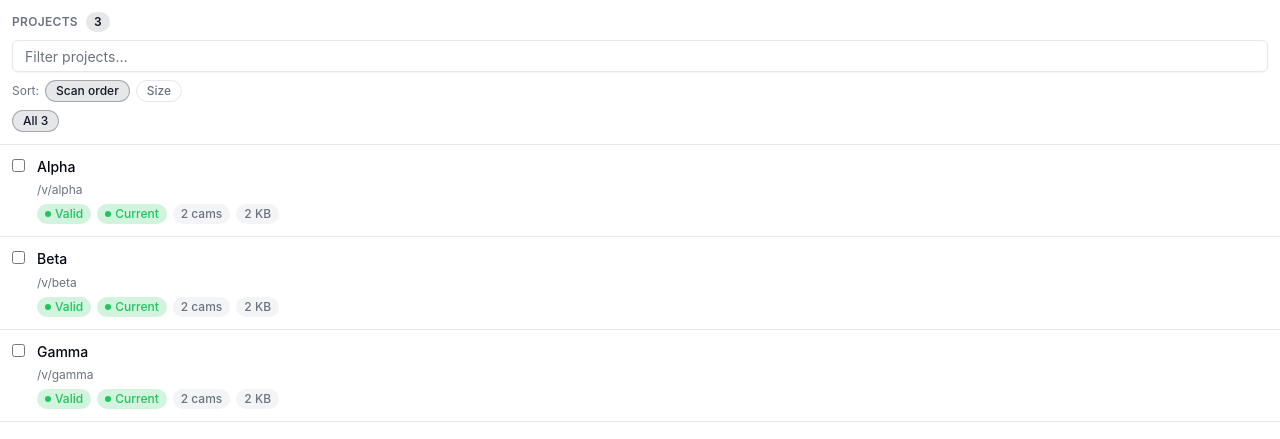
Test: ProjectListPanel text filter › shows the empty state when no projects match the filter
Type "xyz" into the field with placeholder "Filter projects…". click: (640, 56)
box: [12,40,1268,72]
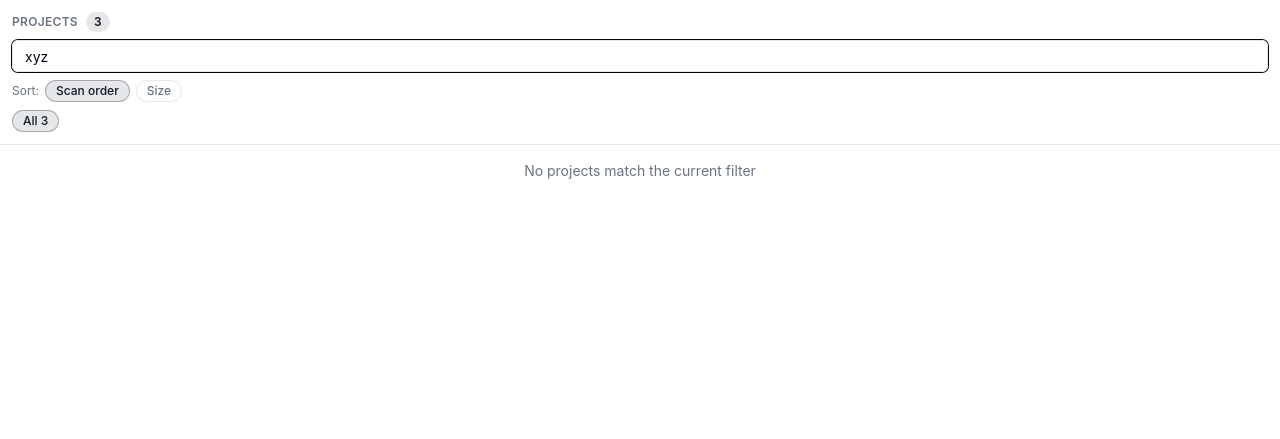
Result: the text "No projects match the current filter" is shown at [524,162,756,179]
Result: the button "Alpha /v/alpha Valid Current 2 cams 2 KB" is gone
